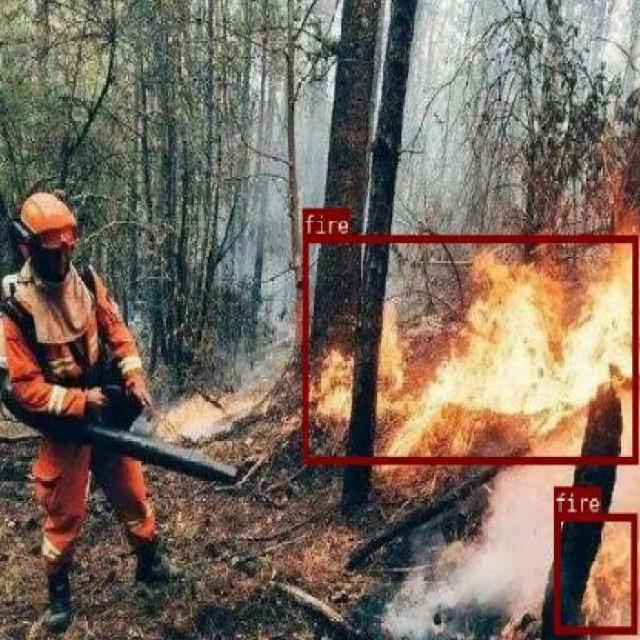fire: (302, 235, 636, 463), (553, 512, 636, 634)
